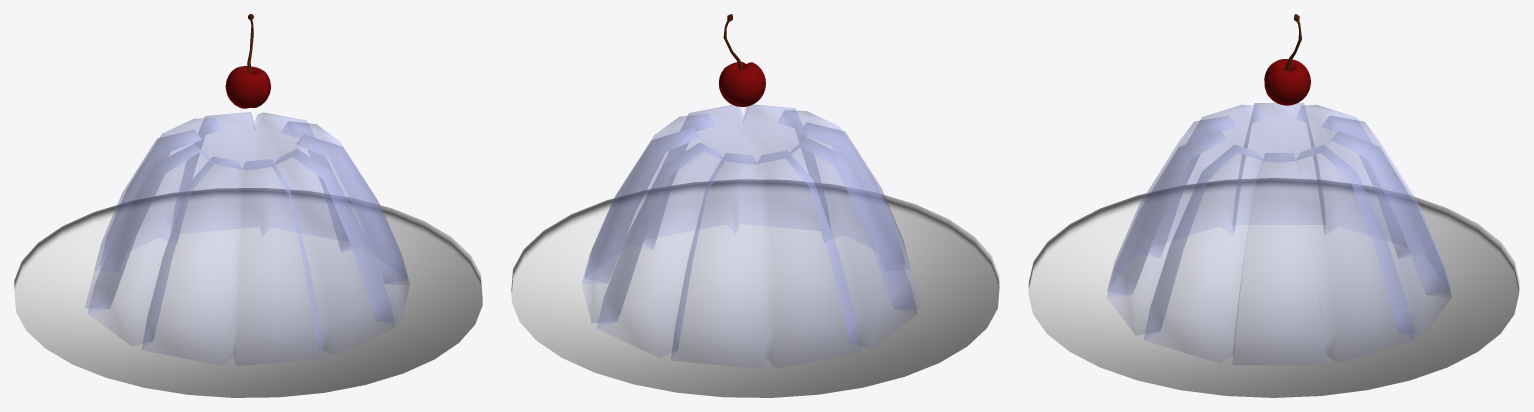
The model's file is jelly1.glb.
3 renders of one model, left to right at view 1: azimuth 30°, elevation 25°; view 2: azimuth 150°, elevation 25°; view 3: azimuth 270°, elevation 25°, orthographic. The views are drawn at different scales.
Parts seen in each view (by area): view 1: Circle, Cylinder, Sphere; view 2: Circle, Cylinder, Sphere; view 3: Circle, Cylinder, Sphere.
Part boxes in pixels (<box>): Circle: <box>14,187,482,397</box>; Cylinder: <box>85,112,409,365</box>; Sphere: <box>225,66,270,108</box>; Circle: <box>511,179,999,397</box>; Cylinder: <box>582,104,920,368</box>; Sphere: <box>719,61,765,106</box>; Circle: <box>1028,178,1519,397</box>; Cylinder: <box>1107,103,1451,364</box>; Sphere: <box>1264,59,1310,105</box>.
Size of the model in its own units: 4.86 by 3.4 by 4.87.
